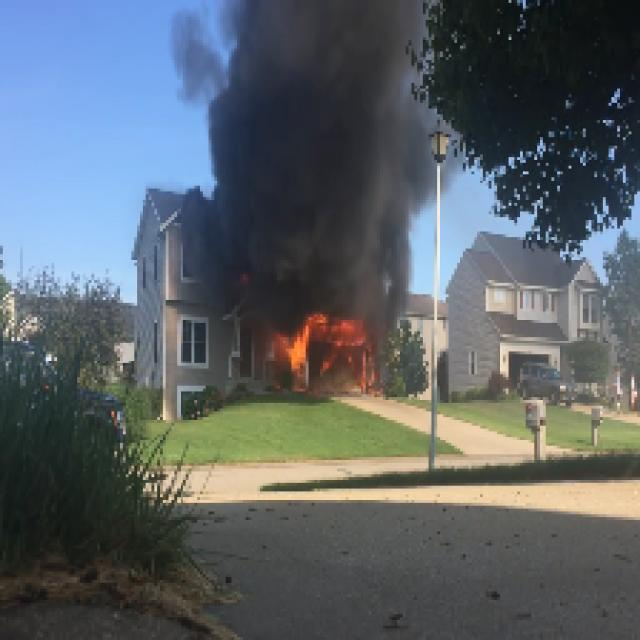fire: (288, 317, 374, 388)
smoke: (206, 3, 426, 300)
